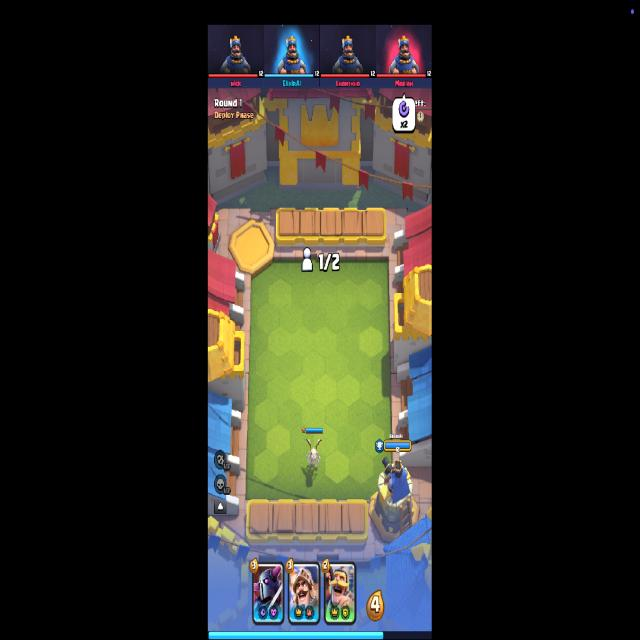card_knight: (323, 560, 357, 626)
card_pekka: (252, 561, 284, 624)
card_prince: (288, 561, 320, 625)
skeleton_dragon: (304, 438, 322, 470)
